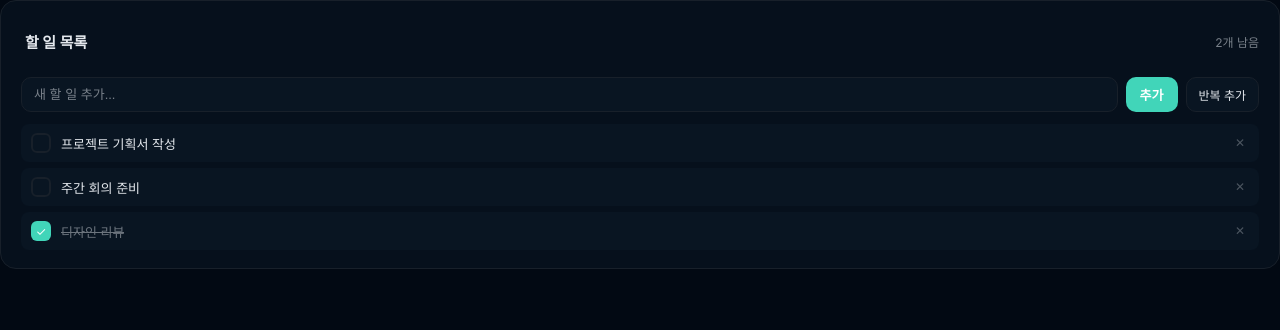
Test: TodoWidget › adds a new todo on 추가 button click
Type "버튼으로 추가" into the field with placeholder "새 할 일 추가...". click: (569, 94)
box: [21,77,1118,112]
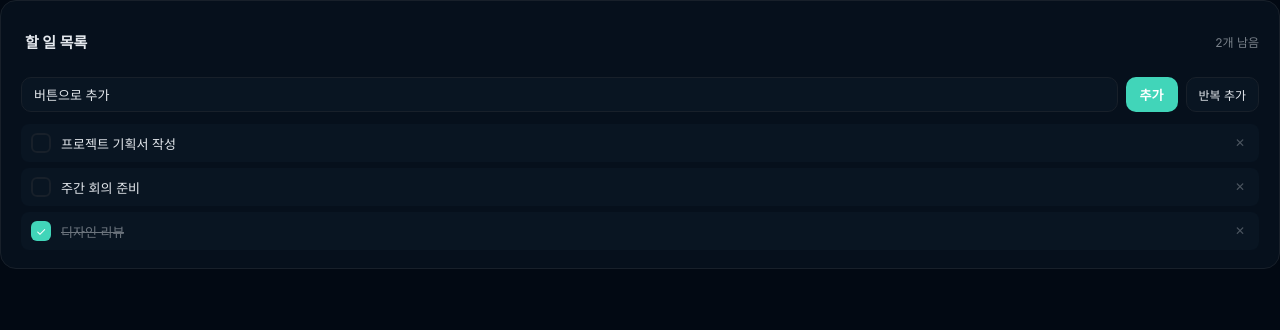
Click the button "추가". click: (1152, 94)
box: [1126,77,1178,112]
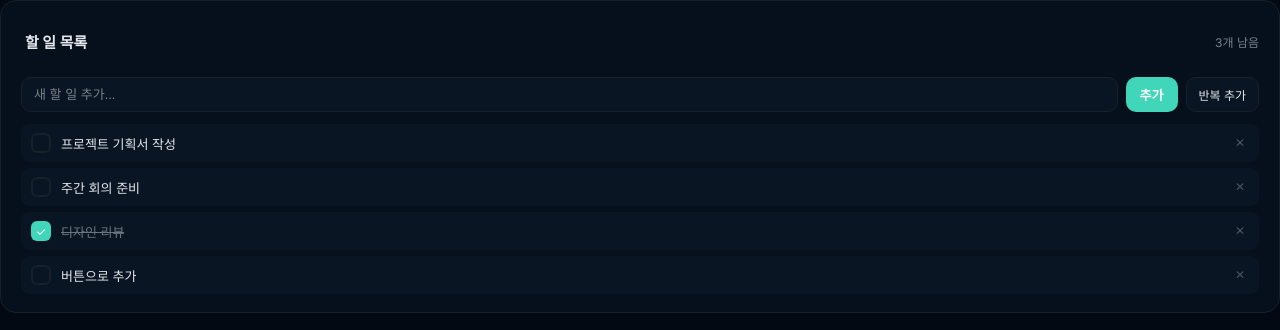
Check: the text "버튼으로 추가" is shown, box [61,266,136,284]
